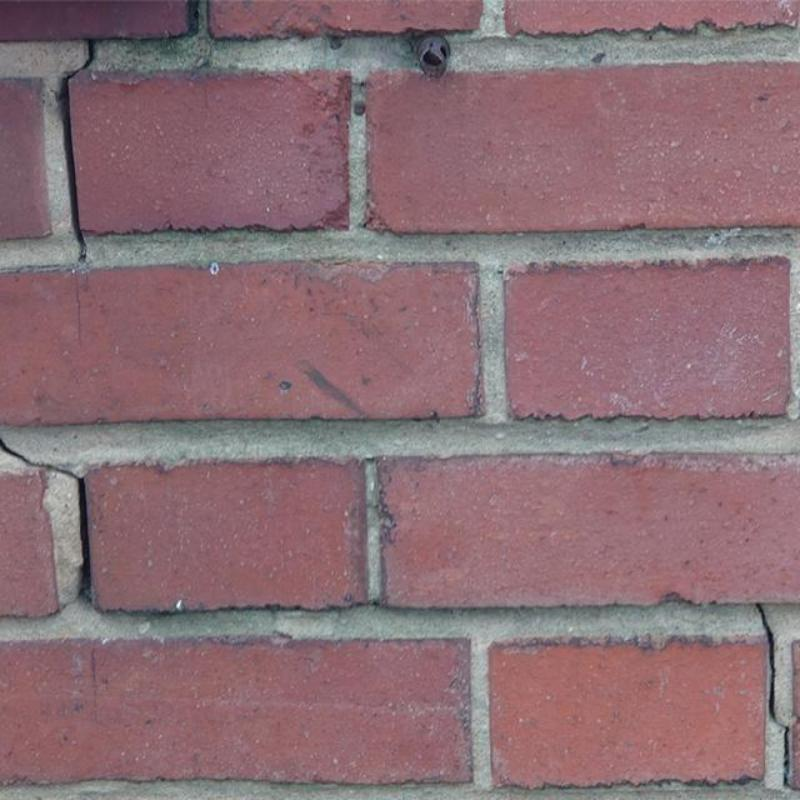pothole: (0, 437, 93, 607), (59, 40, 95, 261), (756, 602, 777, 722), (783, 726, 790, 788)
